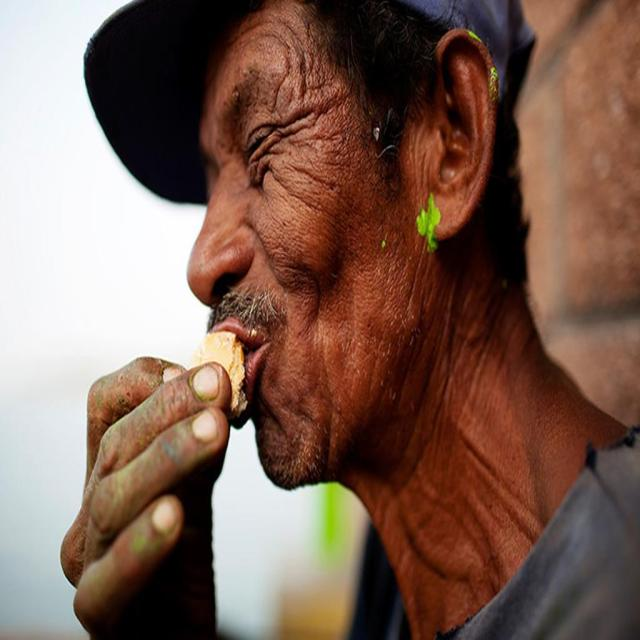Face: (181, 30, 444, 498)
